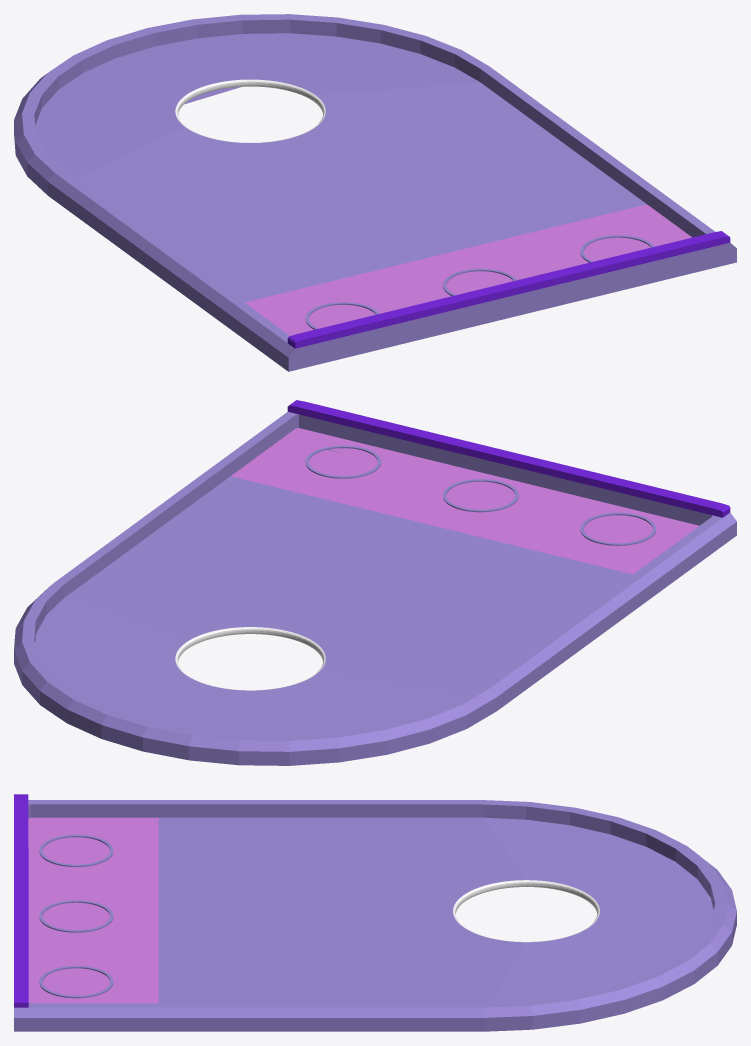
The model's file is Platform_Deneme2 3.fbx.
3 renders of one model, top to bottom at view 1: azimuth 30°, elevation 25°; view 2: azimuth 150°, elevation 25°; view 3: azimuth 270°, elevation 25°, orthographic. The views are drawn at different scales.
Parts seen in each view (by area): view 1: Base_Mesh; view 2: Base_Mesh; view 3: Base_Mesh.
Boxes of the visible parts, x1,y1,x2,y2 form: Base_Mesh: (14, 14, 736, 371); Base_Mesh: (14, 400, 736, 765); Base_Mesh: (14, 794, 736, 1031).
Bounding box in the file's own units: 2498 × 152 × 3568.
